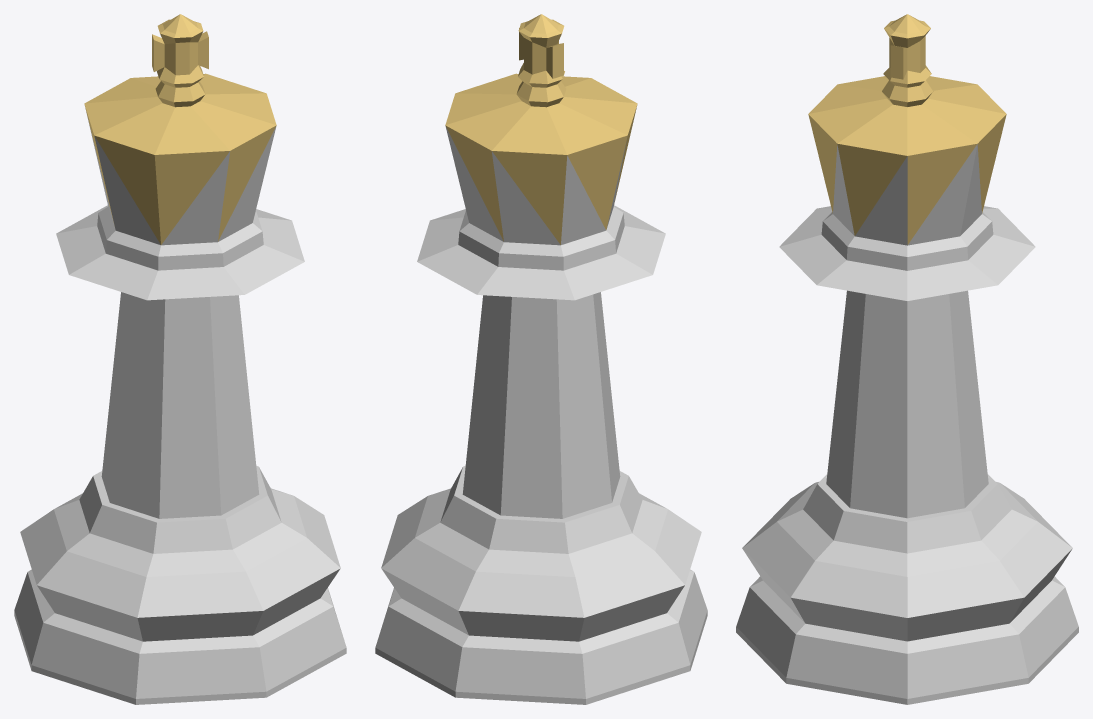
Rendered from gercek5_k_w.glb.
3 renders of one model, left to right at view 1: azimuth 30°, elevation 25°; view 2: azimuth 150°, elevation 25°; view 3: azimuth 270°, elevation 25°, orthographic.
Visible parts, largest first — view 1: k_w; view 2: k_w; view 3: k_w.
Part boxes in pixels (x1,y1,x2,y2): k_w: (14,14,346,704); k_w: (375,14,707,704); k_w: (736,14,1078,704).
Bounding box in the file's own units: 0.4519 × 0.9 × 0.4519.
